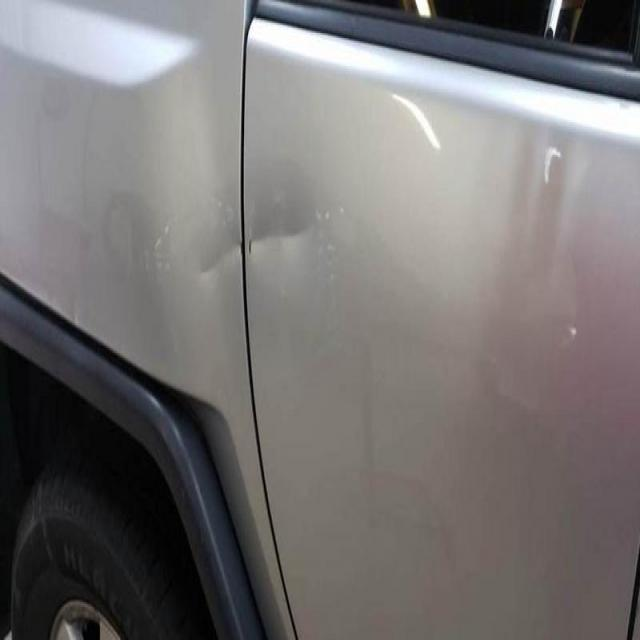dent: (165, 191, 329, 312)
